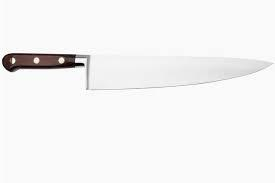Knife: (2, 52, 274, 90)
